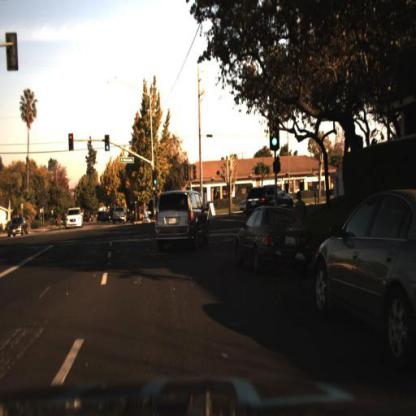car: (236, 206, 313, 276), (158, 184, 211, 260), (247, 181, 294, 213), (6, 214, 30, 236), (66, 205, 85, 230), (112, 203, 128, 227), (100, 206, 113, 227)
pedestrian: (295, 187, 309, 226), (297, 191, 307, 225)
trafficLight: (270, 108, 280, 153)
trafficLight-Green: (104, 133, 112, 154), (152, 169, 160, 190)
trafficLight-RedLeft: (68, 132, 76, 154)
